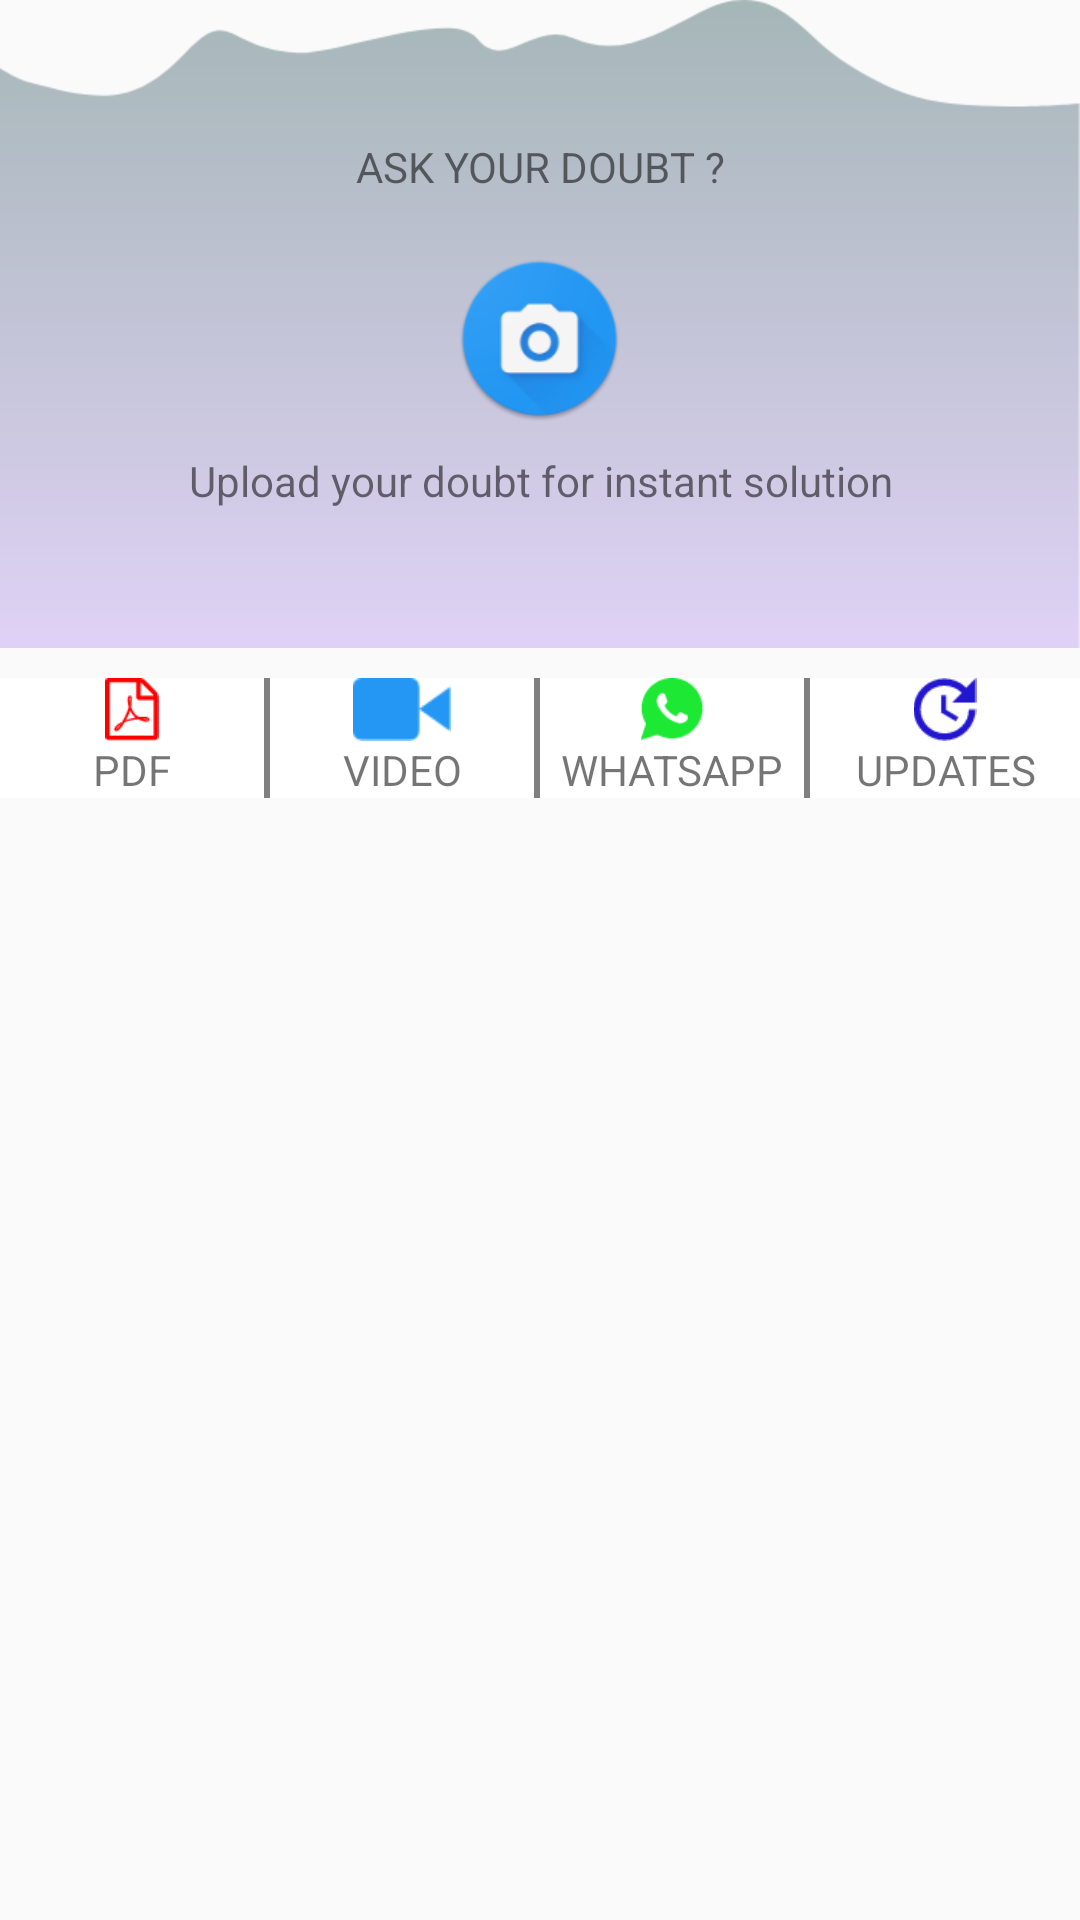

Screen size 1080w x 1920h. Icon name, then its box in pixels as (x1, y1, x2, y2):
camera: (462, 261, 617, 418)
